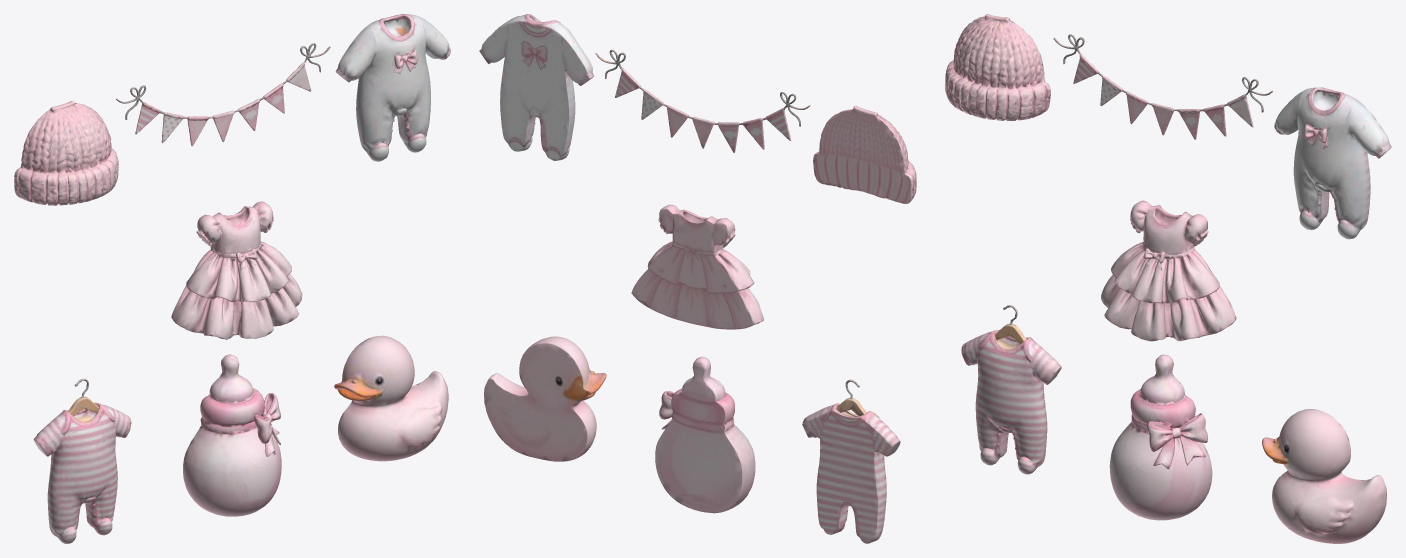
3 renders of one model, left to right at view 1: azimuth 30°, elevation 25°; view 2: azimuth 150°, elevation 25°; view 3: azimuth 330°, elevation 25°, orthographic. The views are drawn at different scales.
Parts seen in each view (by area): view 1: Mesh 4, Mesh 5, Mesh 7, Mesh 6, Mesh 2, Mesh 1, Mesh 3; view 2: Mesh 5, Mesh 6, Mesh 4, Mesh 7, Mesh 2, Mesh 1, Mesh 3; view 3: Mesh 4, Mesh 5, Mesh 7, Mesh 6, Mesh 2, Mesh 1, Mesh 3.
Part boxes in pixels (box(x1,y1,x2,y2)): Mesh 4: box(171, 201, 302, 339); Mesh 5: box(183, 354, 281, 516); Mesh 7: box(335, 14, 450, 161); Mesh 6: box(334, 335, 448, 461); Mesh 2: box(33, 378, 131, 543); Mesh 1: box(14, 101, 118, 205); Mesh 3: box(116, 43, 330, 146); Mesh 5: box(655, 356, 755, 513); Mesh 6: box(484, 336, 606, 461); Mesh 4: box(631, 204, 763, 329); Mesh 7: box(479, 14, 594, 160); Mesh 2: box(802, 379, 900, 543); Mesh 1: box(813, 105, 916, 203); Mesh 3: box(595, 49, 810, 152); Mesh 4: box(1101, 200, 1236, 341); Mesh 5: box(1109, 354, 1212, 520); Mesh 7: box(1274, 87, 1391, 239); Mesh 6: box(1262, 409, 1386, 543); Mesh 2: box(961, 305, 1061, 474); Mesh 1: box(945, 14, 1050, 121); Mesh 3: box(1053, 34, 1272, 139).
Bounding box in the file's own units: 1.9 × 1.89 × 0.2279.
7 materials, 7 textured.
